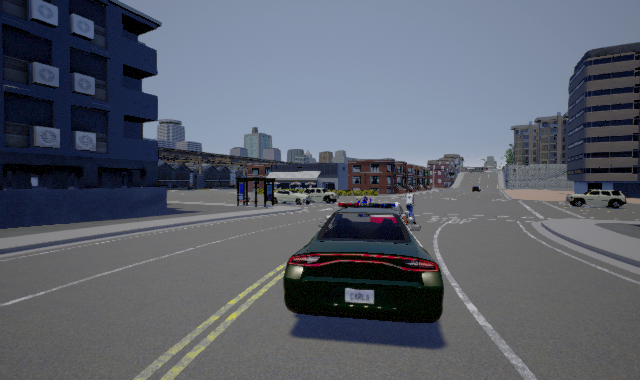bike: (402, 190, 421, 223)
vehicle: (283, 198, 444, 323), (566, 189, 627, 209), (274, 187, 339, 205)
